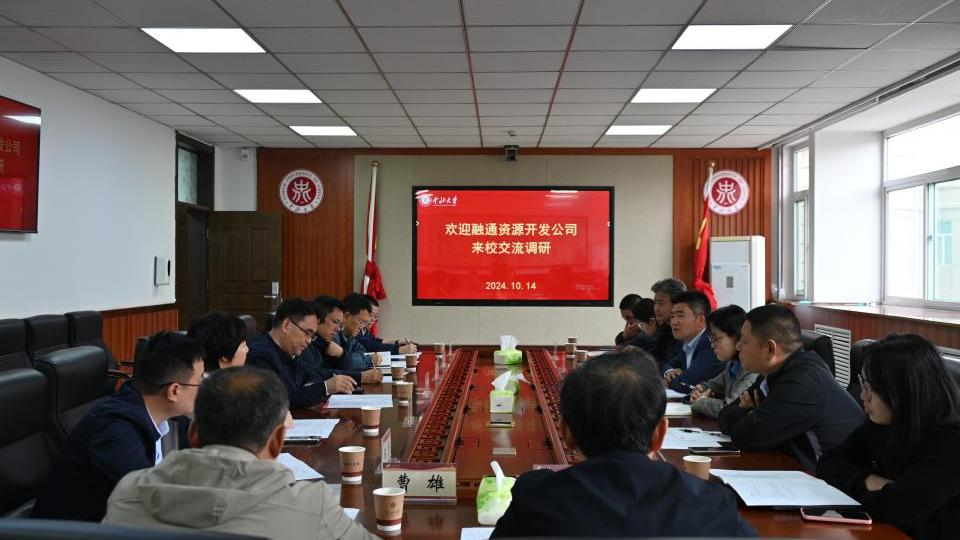persion: (857, 364, 895, 427), (166, 355, 202, 420), (738, 322, 780, 375), (282, 312, 316, 360), (668, 301, 701, 338), (710, 324, 733, 366), (222, 336, 250, 369), (345, 303, 369, 339), (320, 308, 343, 343), (652, 290, 672, 321)
